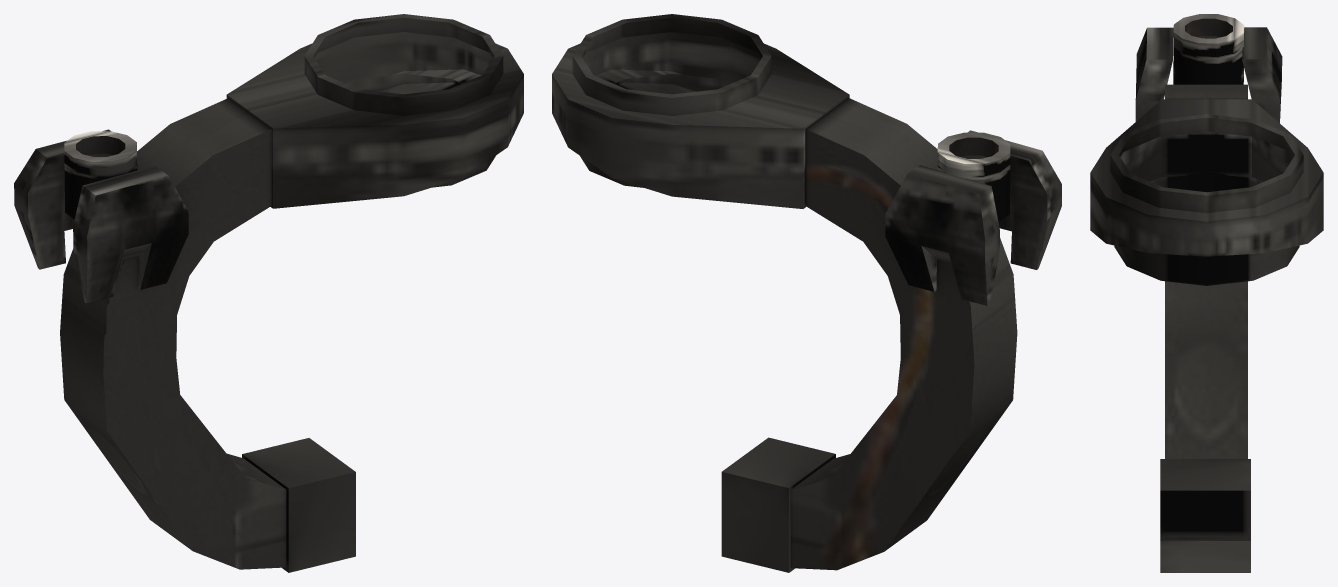
The model's file is suspension_steer_B_L.dae.
3 renders of one model, left to right at view 1: azimuth 30°, elevation 25°; view 2: azimuth 150°, elevation 25°; view 3: azimuth 270°, elevation 25°, orthographic. The views are drawn at different scales.
Parts seen in each view (by area): view 1: suspension_steer_B_L; view 2: suspension_steer_B_L; view 3: suspension_steer_B_L.
Boxes of the visible parts, x1,y1,x2,y2 form: suspension_steer_B_L: (14,14,523,572); suspension_steer_B_L: (552,14,1061,572); suspension_steer_B_L: (1090,14,1323,572).
Bounding box in the file's own units: 0.4622 × 0.2102 × 0.4499.
Materials: 2 (2 with a texture image).
